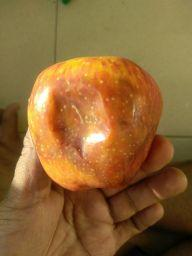apple: (14, 46, 175, 198)
